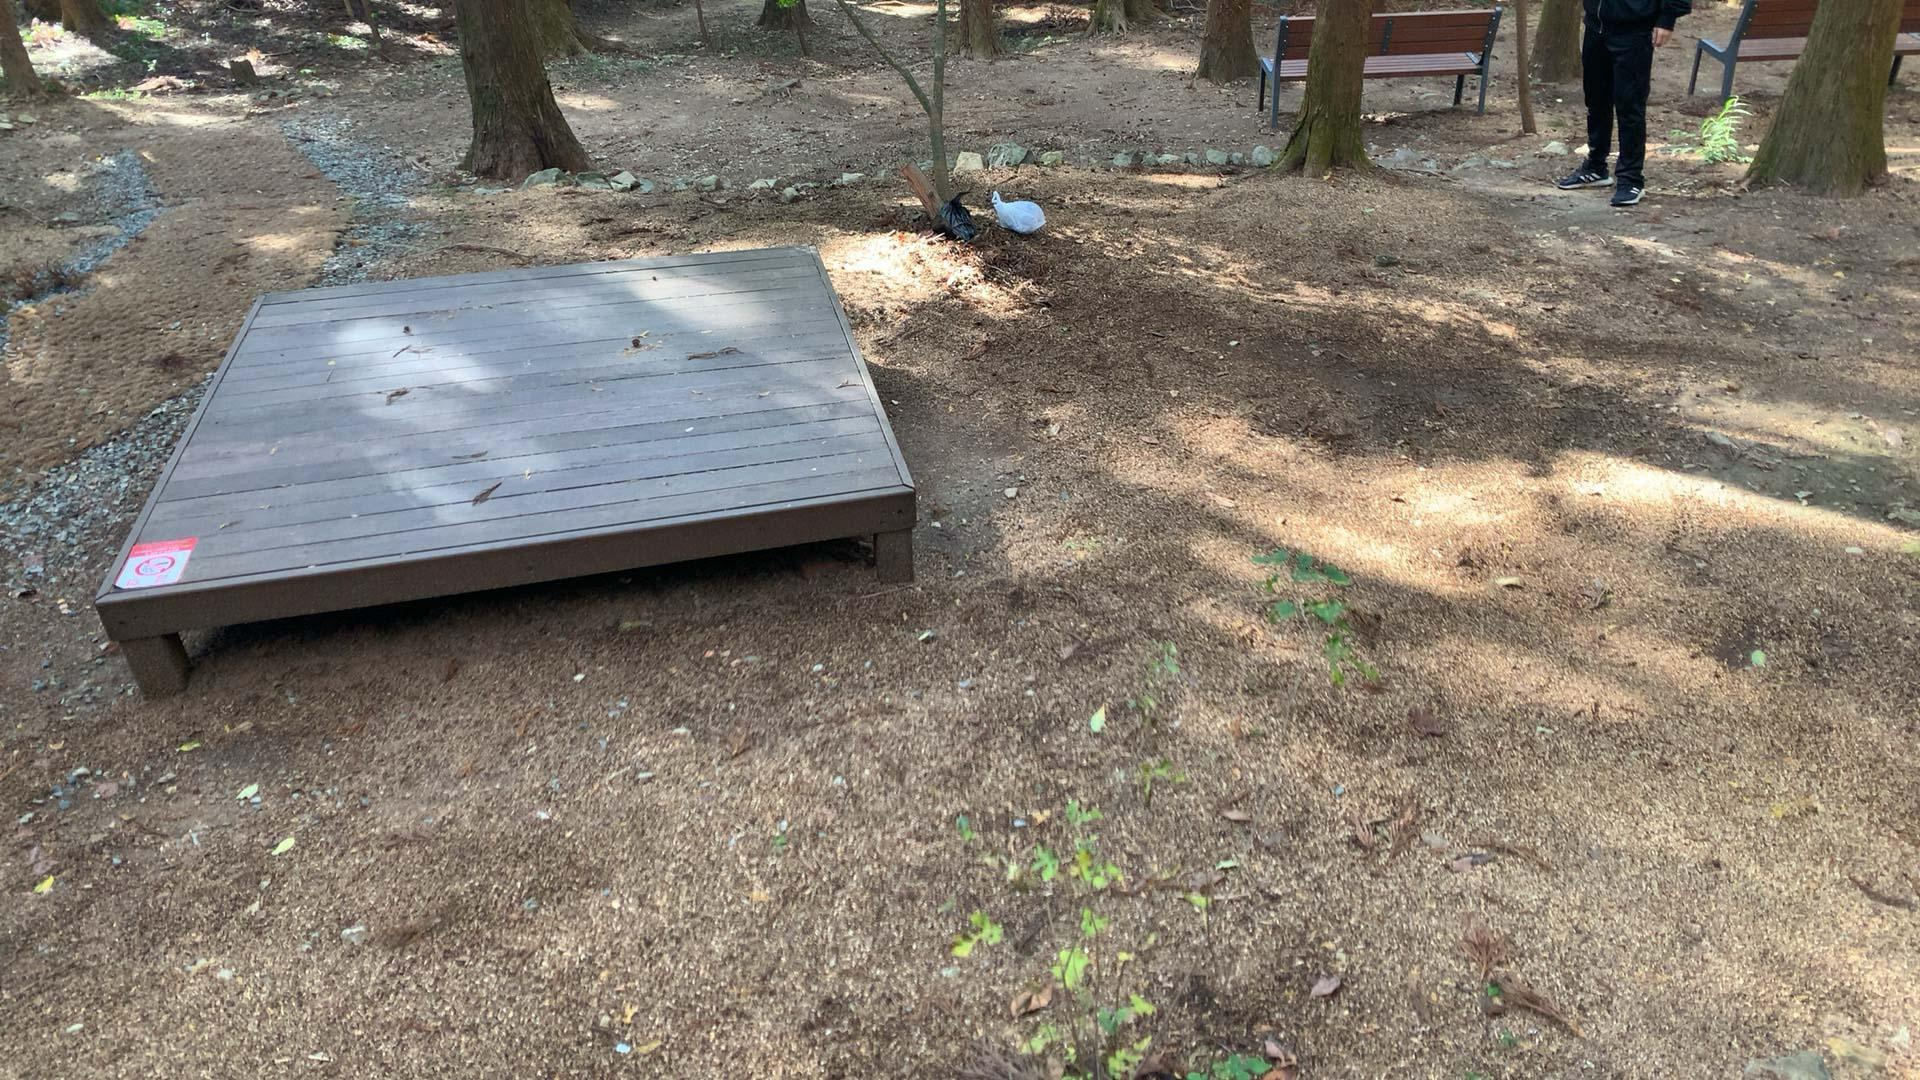black_bag: (926, 185, 982, 244)
white_bag: (989, 186, 1048, 236)
